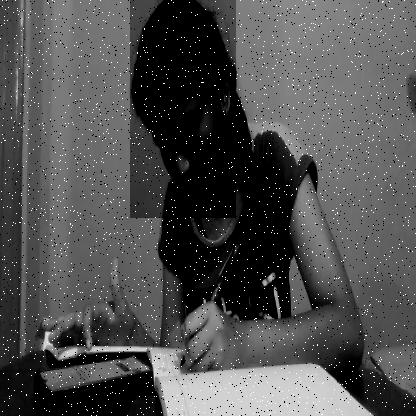Distracted: (130, 0, 235, 218)
